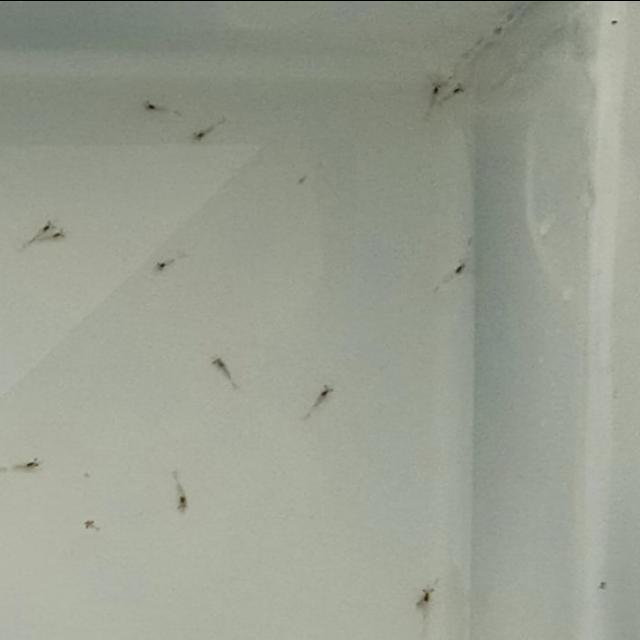shrimp-seed: (414, 584, 440, 608), (148, 255, 174, 278), (141, 94, 167, 117), (210, 352, 232, 379), (170, 489, 192, 516), (187, 122, 214, 144), (449, 260, 471, 280), (316, 382, 336, 404), (429, 78, 448, 98), (22, 454, 45, 470), (450, 80, 470, 96), (50, 222, 66, 241), (38, 214, 55, 230)
